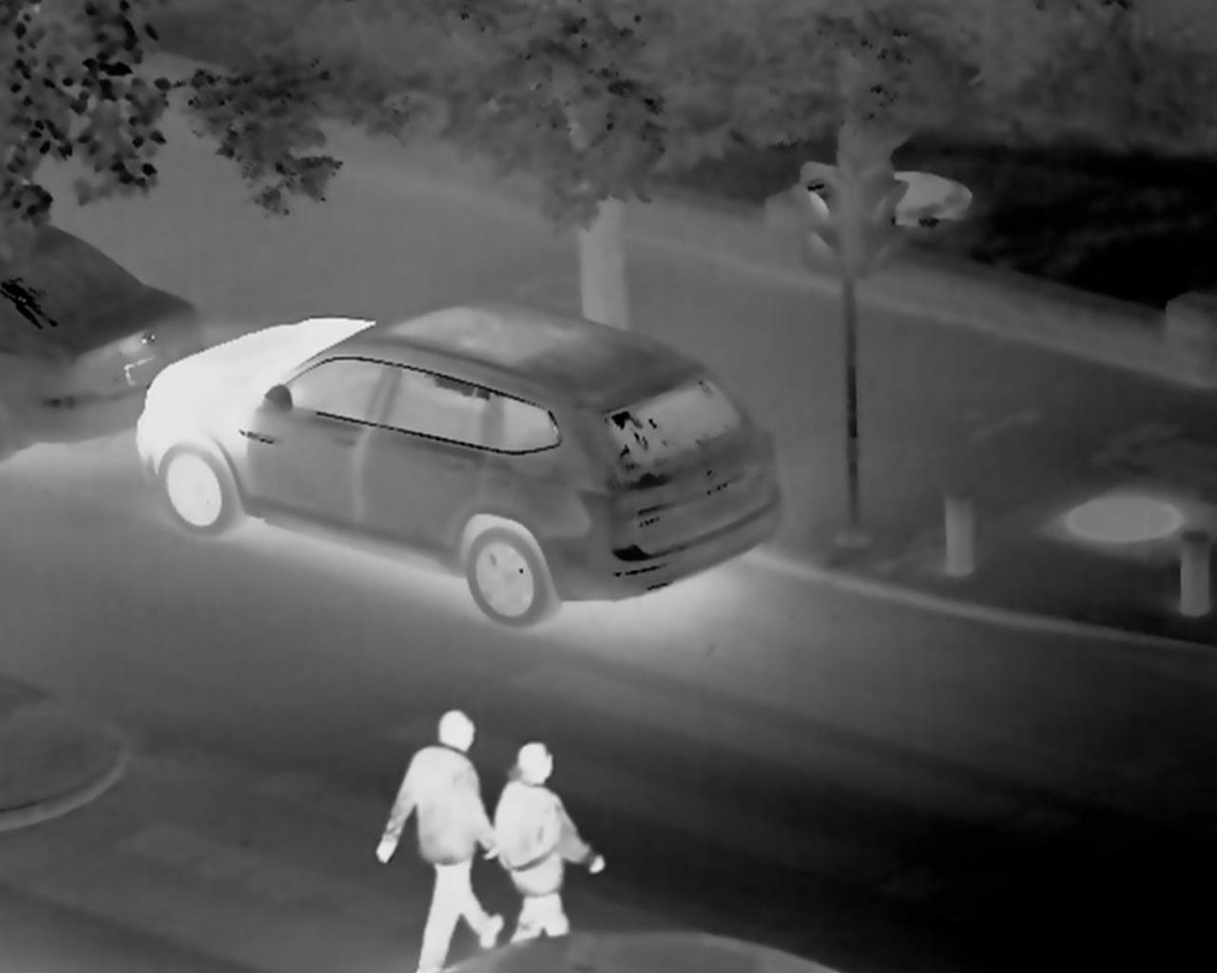person: (368, 704, 501, 968), (486, 736, 604, 944)
